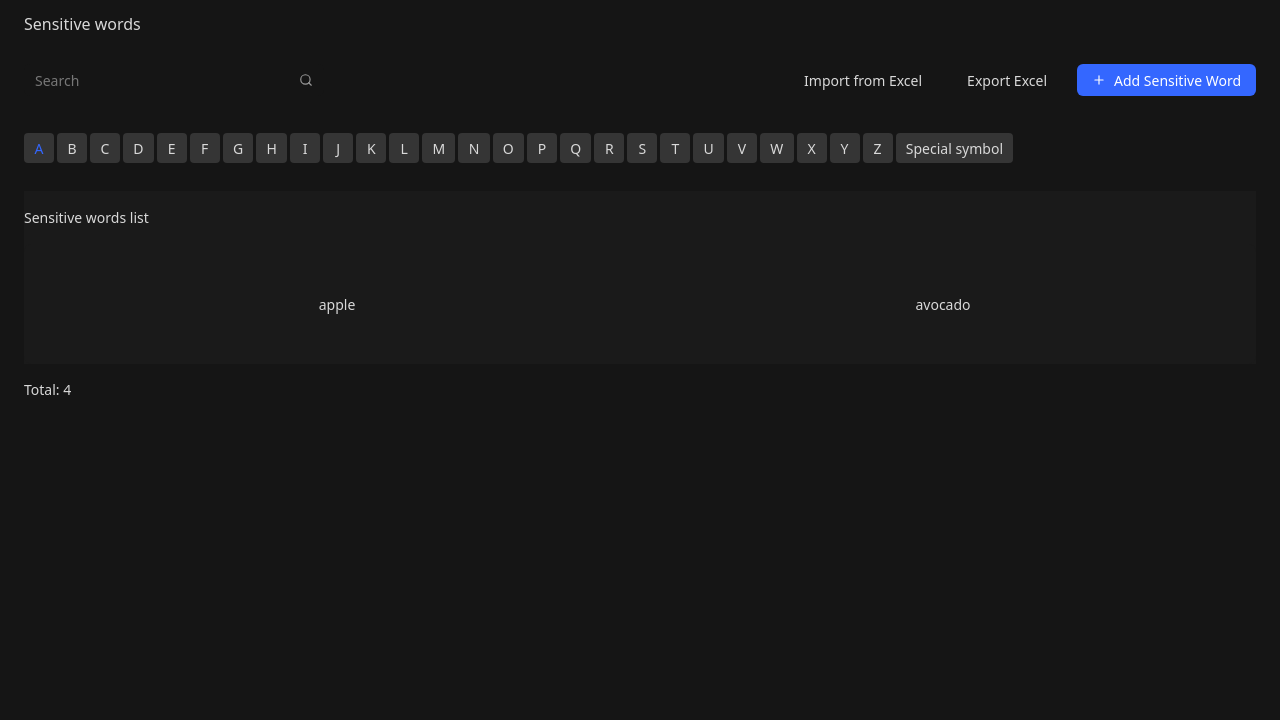
Test: SensitiveWordsPage › shows the empty state for a letter with no words
Expected: the list item "apple" is shown, [319, 294, 355, 314]
Click the tab "Z". click: (878, 148)
box: [862, 133, 892, 163]
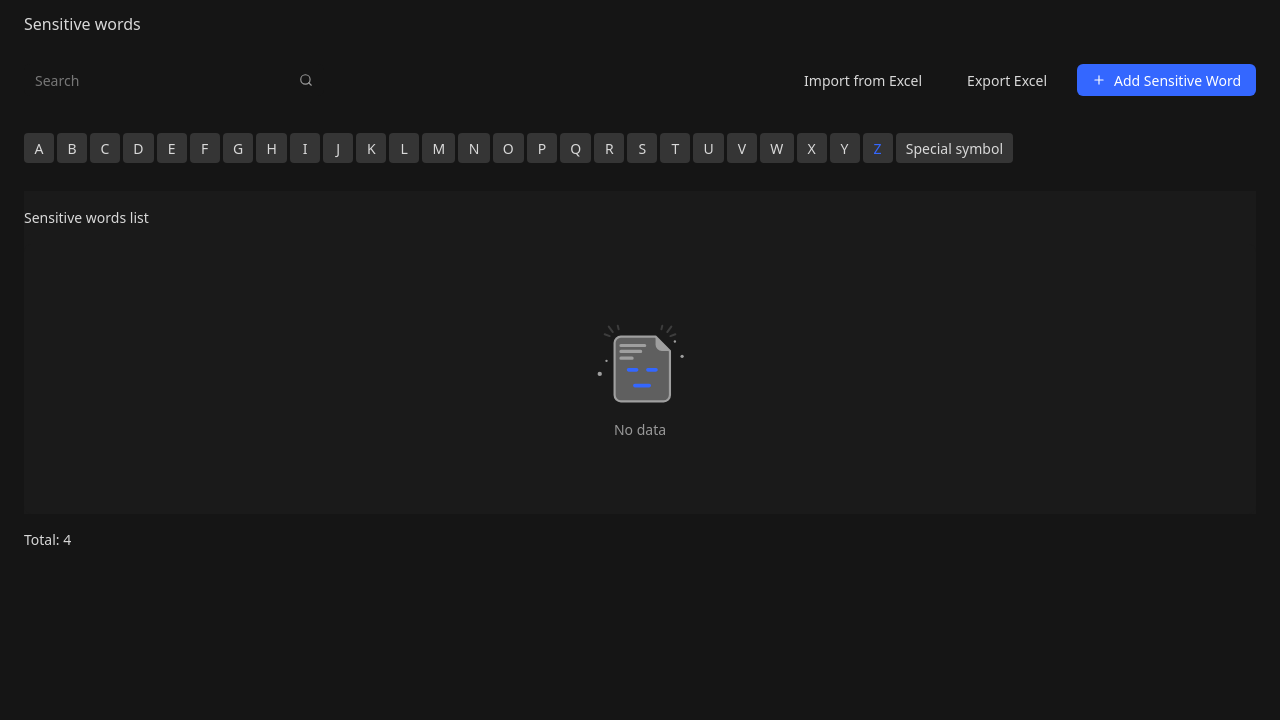
Now the text "No data" is shown, box [614, 418, 666, 440]
